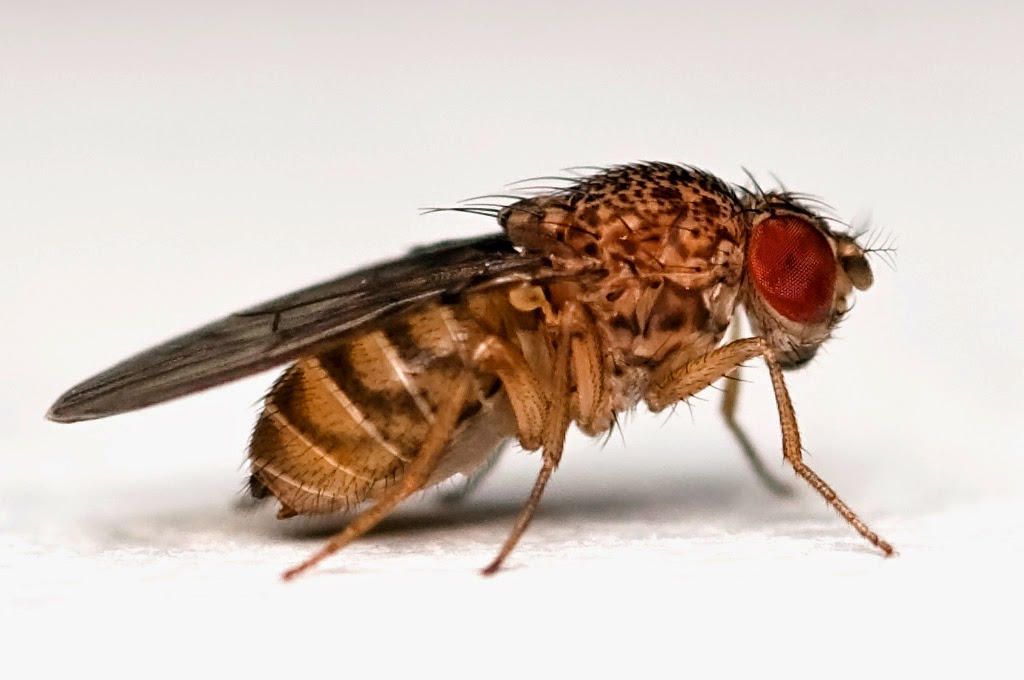Fruit Flies: (38, 148, 917, 592)
